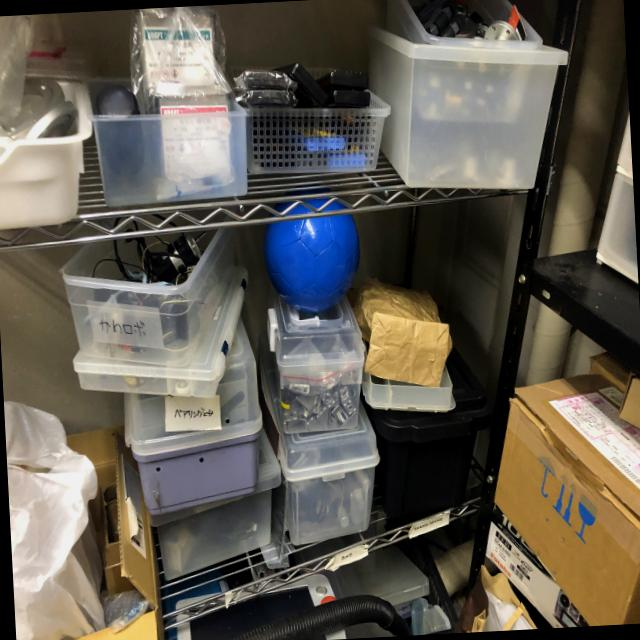blue_ball: (272, 204, 361, 318)
